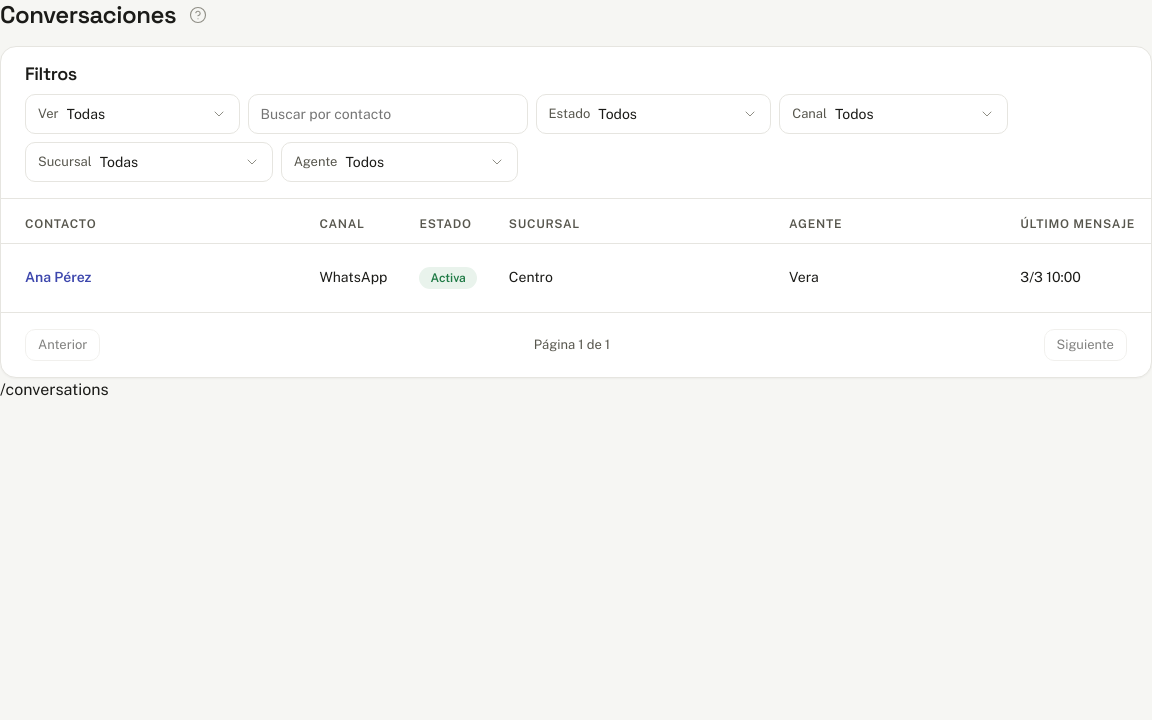
it: ConversationListPage › el detalle NO se pide hasta que alguien abre una fila
Click the button "Ana Pérez" at (58, 278), box [25,258,92,298]
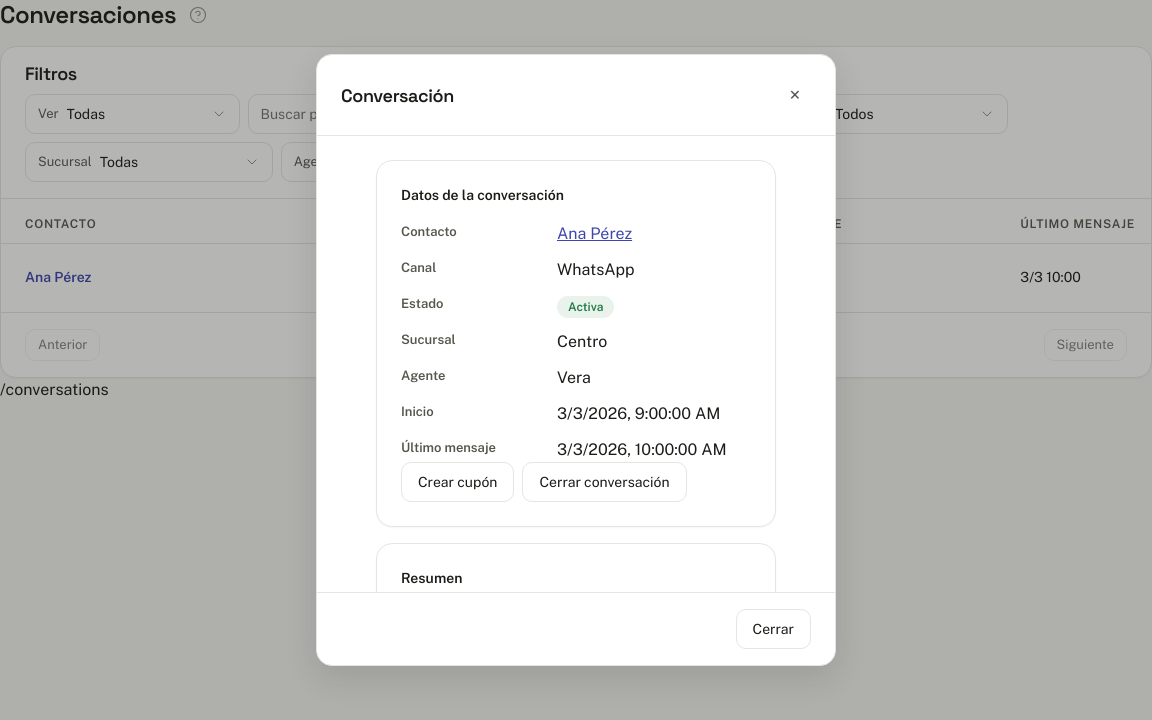
Now the dialog is shown
